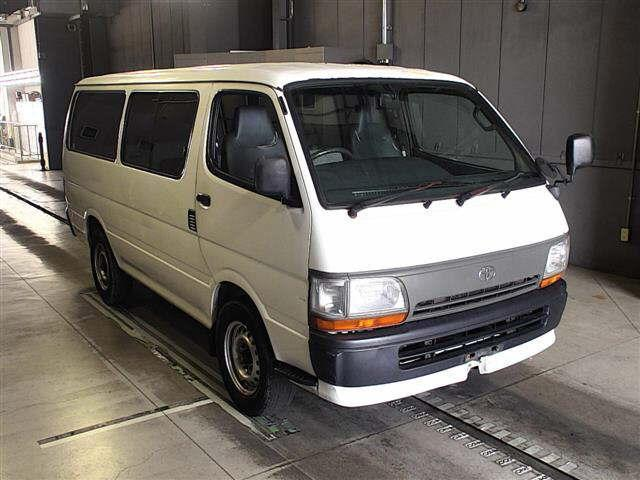van: (60, 64, 595, 416)
